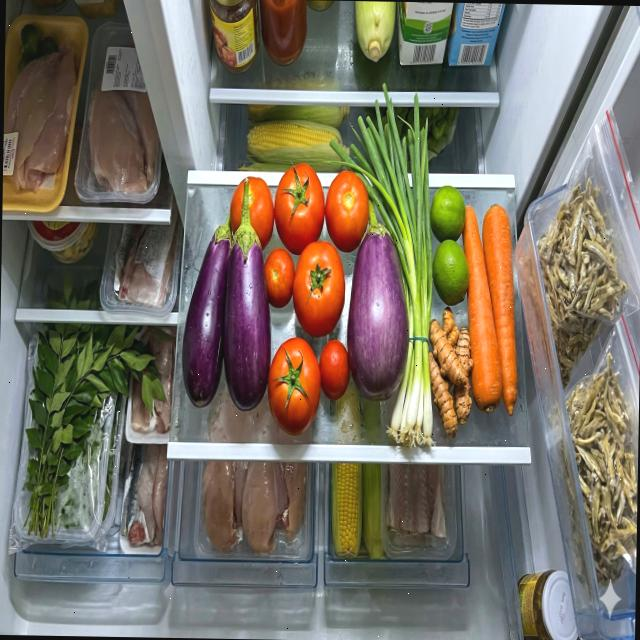anchovies: (534, 176, 630, 391), (562, 350, 640, 586)
carrot: (458, 202, 520, 415)
chicken: (3, 49, 77, 193), (87, 73, 159, 192)
corn: (246, 102, 350, 172), (329, 460, 388, 560), (353, 0, 396, 62)
curry_leaves: (22, 320, 170, 540)
eggplant: (180, 175, 274, 412), (346, 192, 412, 402)
fish: (112, 189, 178, 308), (385, 464, 449, 550), (119, 442, 169, 548)
lime: (428, 185, 470, 306)
spring_onion: (324, 82, 439, 450)
tomato: (227, 160, 370, 338), (266, 337, 352, 438)
